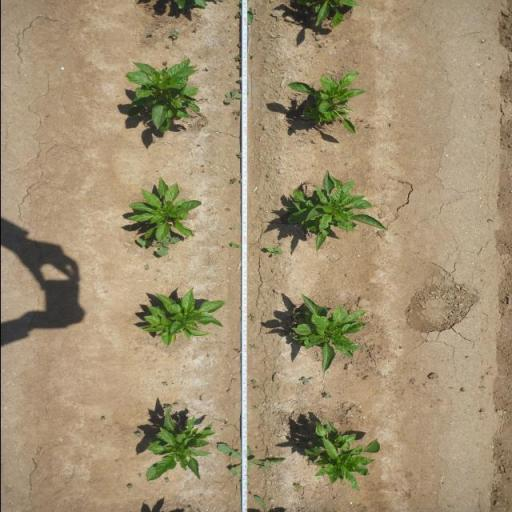plant: (280, 164, 388, 252), (282, 292, 369, 373), (121, 55, 201, 134), (304, 416, 383, 493), (134, 286, 229, 348), (282, 68, 369, 135), (144, 410, 218, 482), (122, 176, 202, 238), (294, 0, 360, 29)
weed: (215, 442, 287, 488), (134, 235, 180, 258), (262, 244, 285, 258), (222, 88, 242, 104), (297, 374, 315, 386), (232, 54, 241, 71), (218, 416, 229, 427), (162, 403, 174, 413), (168, 28, 178, 40), (246, 313, 256, 324), (230, 110, 241, 120), (229, 241, 241, 249), (132, 429, 142, 438), (293, 482, 304, 490), (162, 476, 172, 484), (144, 29, 154, 37), (232, 347, 242, 354), (229, 177, 237, 185), (322, 393, 332, 399), (126, 483, 134, 490), (143, 263, 150, 271), (248, 53, 256, 60), (191, 25, 198, 33), (197, 395, 204, 402), (224, 388, 232, 394), (248, 344, 256, 350), (236, 76, 242, 84), (251, 404, 258, 410), (161, 60, 168, 66), (161, 381, 169, 386), (224, 206, 230, 212), (236, 152, 242, 158), (228, 226, 235, 231), (99, 416, 106, 421), (172, 402, 178, 407), (164, 43, 170, 48), (234, 13, 240, 18), (236, 41, 240, 48), (250, 380, 256, 384), (253, 386, 259, 390), (150, 140, 156, 144), (228, 72, 233, 76), (232, 378, 238, 381), (205, 354, 210, 357), (225, 354, 229, 357)
